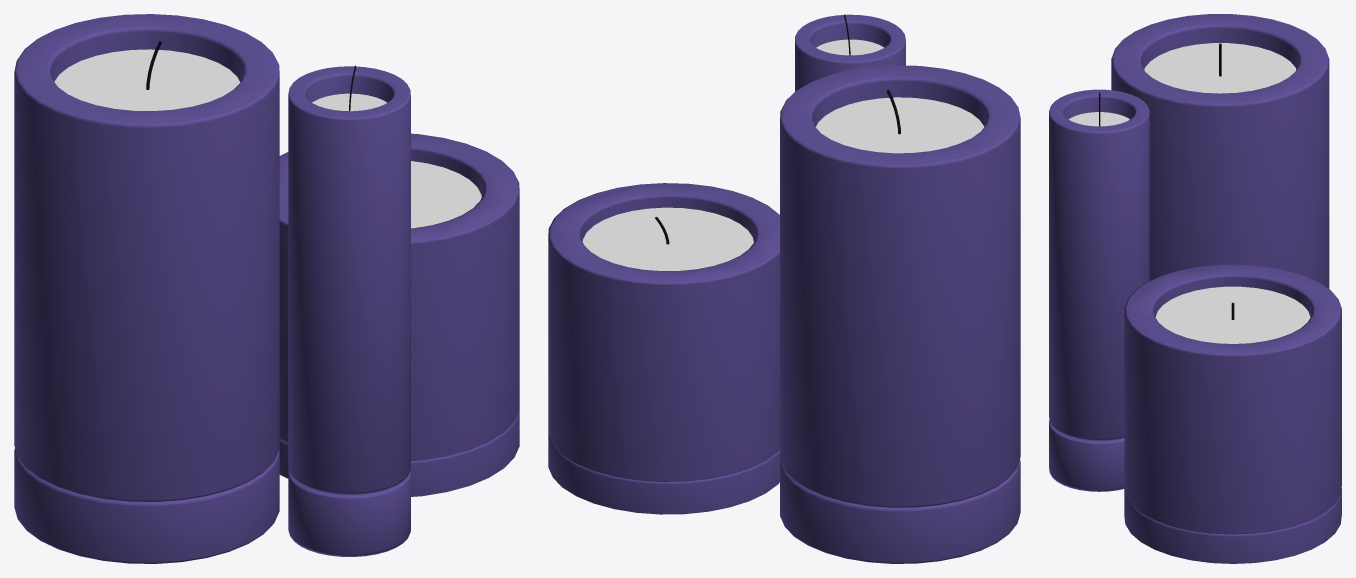
File: Velas2.glb
3 renders of one model, left to right at view 1: azimuth 30°, elevation 25°; view 2: azimuth 150°, elevation 25°; view 3: azimuth 270°, elevation 25°, orthographic. The views are drawn at different scales.
Parts seen in each view (by area): view 1: Candle_001, Candle_007, Candle_004, Candle_002, Candle_005, Candle_008; view 2: Candle_001, Candle_004, Candle_005, Candle_002, Candle_007, Candle_008; view 3: Candle_004, Candle_001, Candle_007, Candle_005, Candle_002, Candle_008.
Boxes of the visible parts, x1,y1,x2,y2 form: Candle_001: (14, 14, 279, 563); Candle_007: (288, 66, 410, 556); Candle_004: (279, 133, 519, 496); Candle_002: (54, 49, 240, 110); Candle_005: (411, 161, 481, 228); Candle_008: (312, 93, 386, 111); Candle_001: (780, 65, 1020, 563); Candle_004: (548, 183, 780, 514); Candle_005: (582, 207, 753, 270); Candle_002: (815, 97, 984, 153); Candle_007: (795, 14, 905, 91); Candle_008: (816, 39, 883, 55); Candle_004: (1124, 264, 1341, 563); Candle_001: (1111, 14, 1329, 288); Candle_007: (1049, 89, 1149, 491); Candle_005: (1155, 286, 1310, 343); Candle_002: (1144, 43, 1296, 93); Candle_008: (1069, 112, 1129, 126).
Size of the model in its own units: 47.2 by 43.93 by 30.59.
